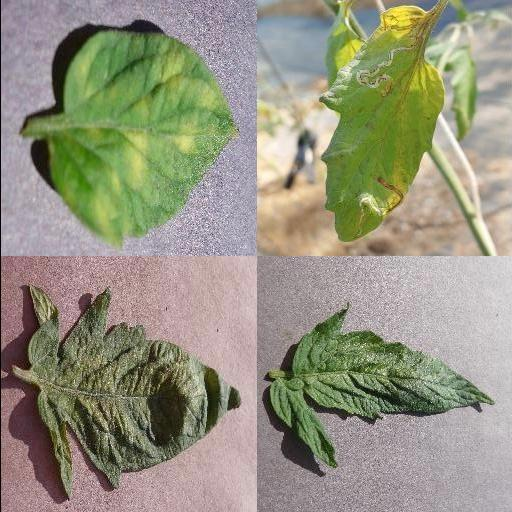Leaf Miner: (317, 1, 449, 243)
Leaf Mold: (45, 32, 241, 238)
Spider Mites: (25, 286, 241, 502), (269, 306, 495, 468)
